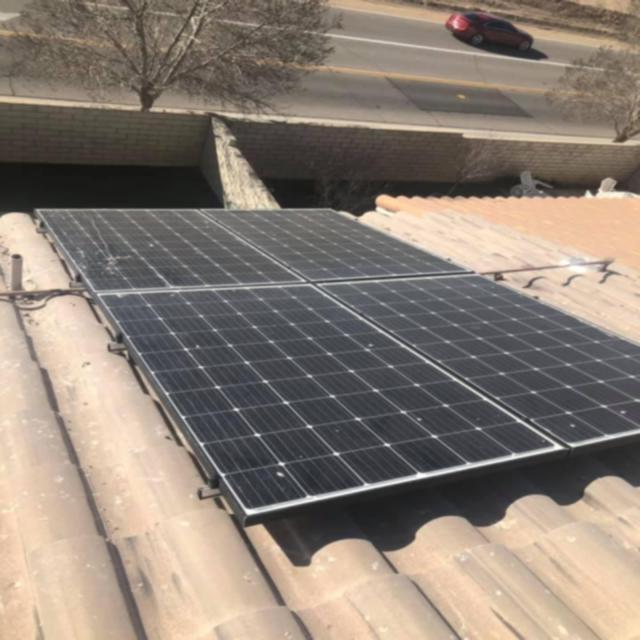soiled: (35, 207, 308, 290)
